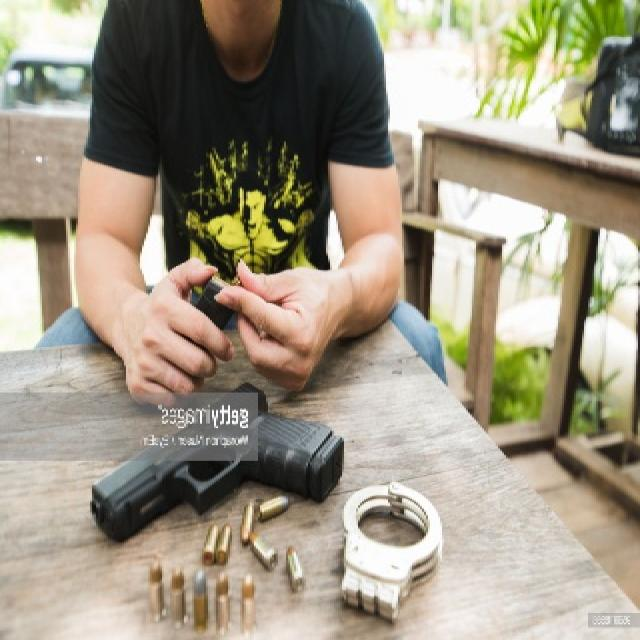handgun: (89, 380, 345, 546)
